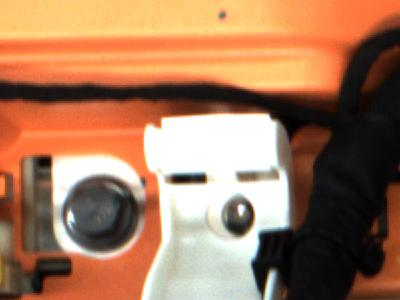nut_b: (59, 169, 144, 255)
